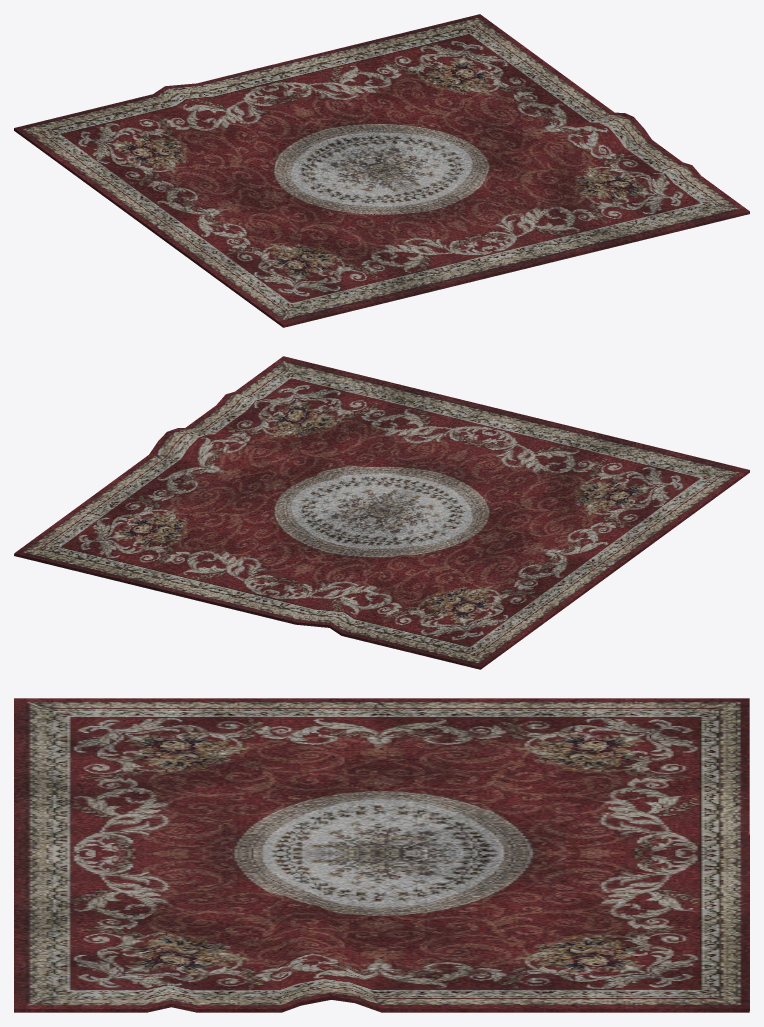
Rendered from 151_Carpet.fbx.
The picture shows the model from 3 angles, top to bottom: view 1: azimuth 30°, elevation 25°; view 2: azimuth 150°, elevation 25°; view 3: azimuth 270°, elevation 25°; orthographic projection. The views are drawn at different scales.
Parts seen in each view (by area): view 1: LOD_1_Group_0_Sub_1__sm30_151_Carpet08A_A_Mat; view 2: LOD_1_Group_0_Sub_1__sm30_151_Carpet08A_A_Mat; view 3: LOD_1_Group_0_Sub_1__sm30_151_Carpet08A_A_Mat.
Part boxes in pixels (left/top/right/bottom): LOD_1_Group_0_Sub_1__sm30_151_Carpet08A_A_Mat: left=14, top=14, right=749, bottom=327; LOD_1_Group_0_Sub_1__sm30_151_Carpet08A_A_Mat: left=14, top=356, right=749, bottom=669; LOD_1_Group_0_Sub_1__sm30_151_Carpet08A_A_Mat: left=14, top=698, right=749, bottom=1012.
Bounding box in the file's own units: 4.59 × 0.1137 × 4.59.
